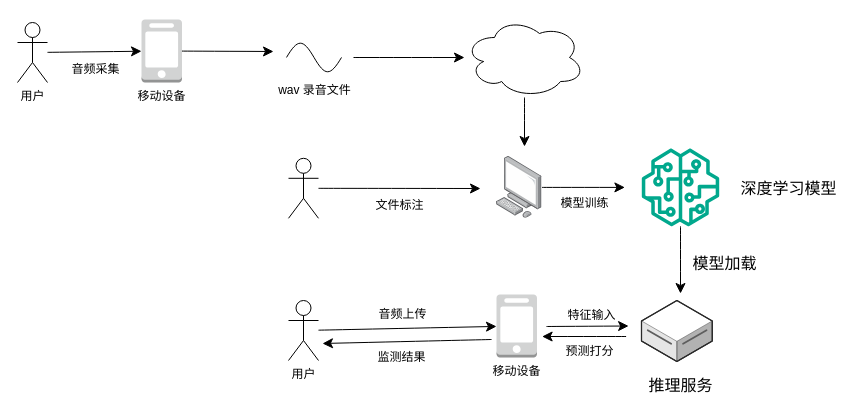
The diagram is 863 pixels wide and 418 high, and some of its shapes have lost their labels. The centre of each missing label's shape, as x and y in pixels:
云存储: (524,57)
标注员: (303,187)
